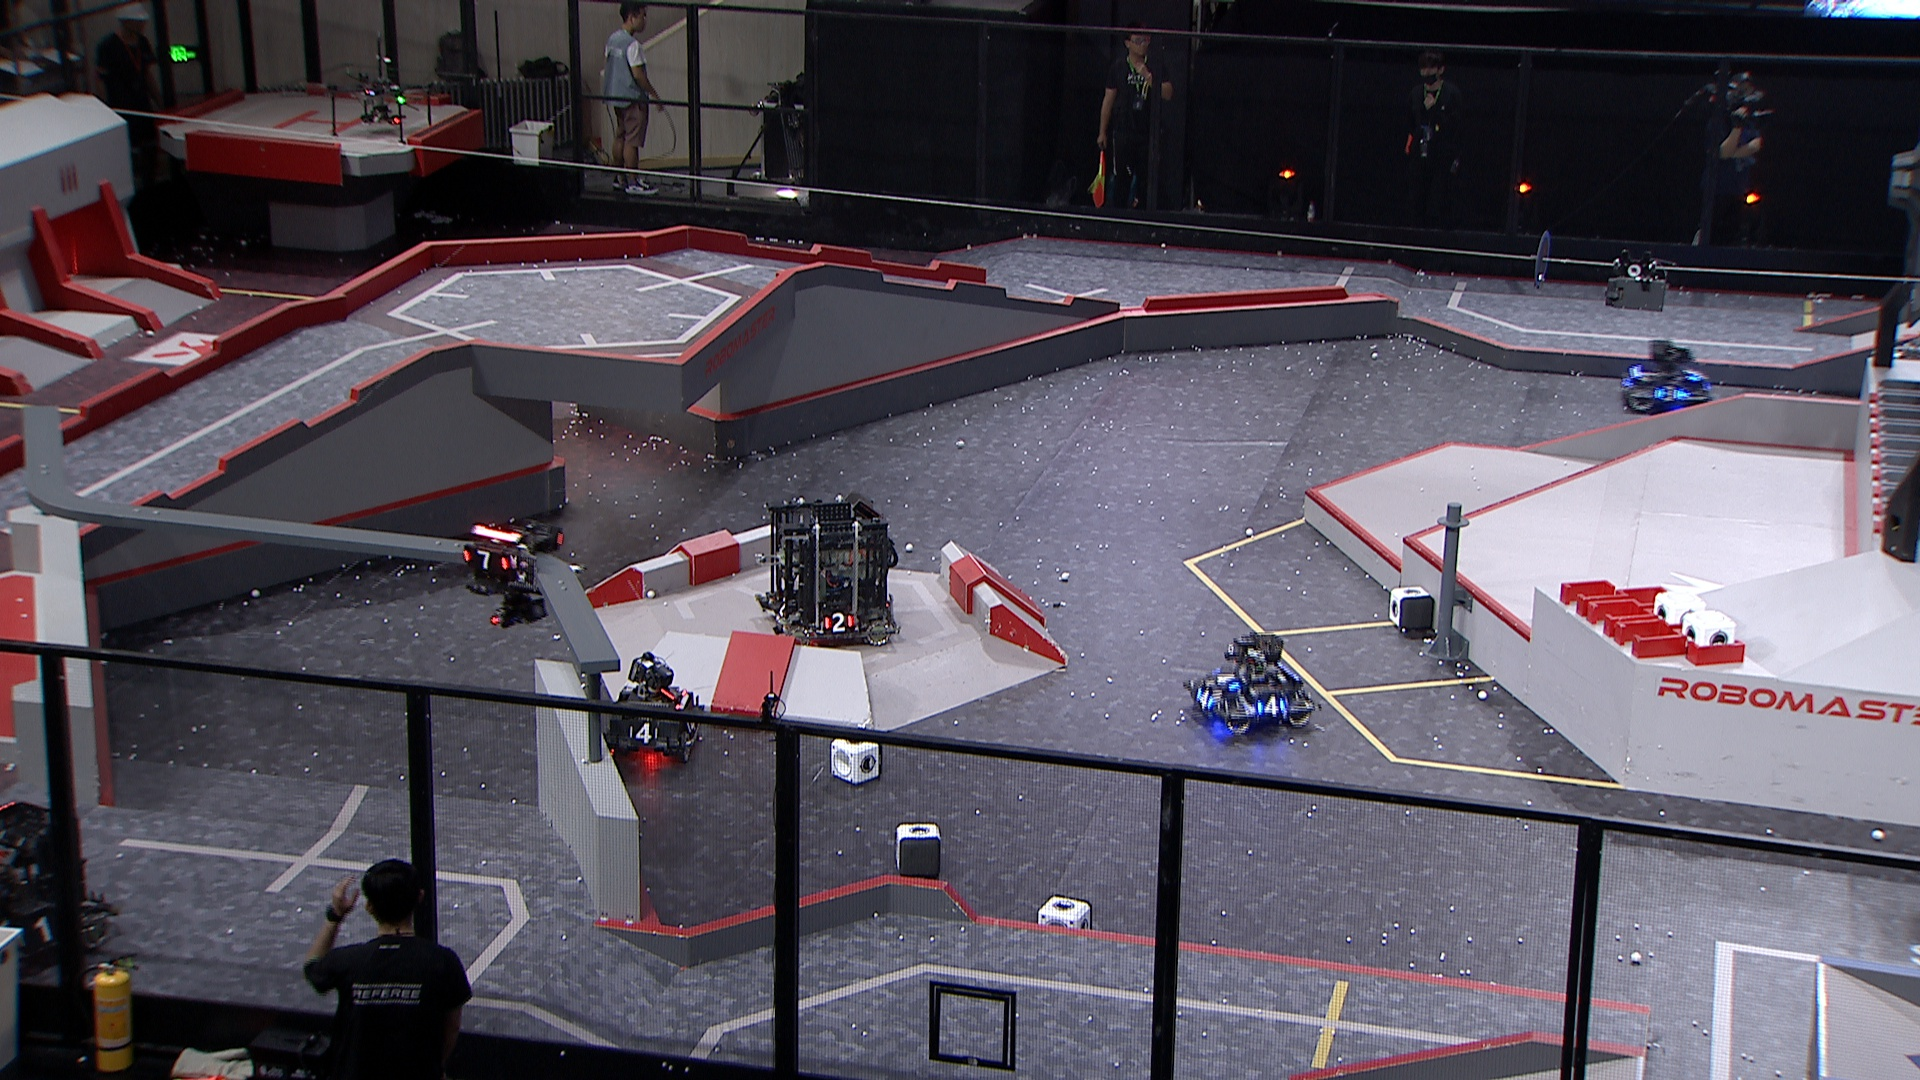armor: (17, 918, 59, 953), (462, 546, 510, 572), (626, 719, 662, 746), (1650, 384, 1689, 405), (1255, 694, 1287, 717), (822, 611, 855, 633), (1212, 669, 1240, 695), (1193, 684, 1218, 712), (775, 597, 794, 622), (1683, 367, 1705, 384)
car: (756, 495, 902, 644), (1185, 632, 1317, 736), (597, 657, 702, 764), (1619, 339, 1716, 415)
watcher: (460, 524, 568, 628)
